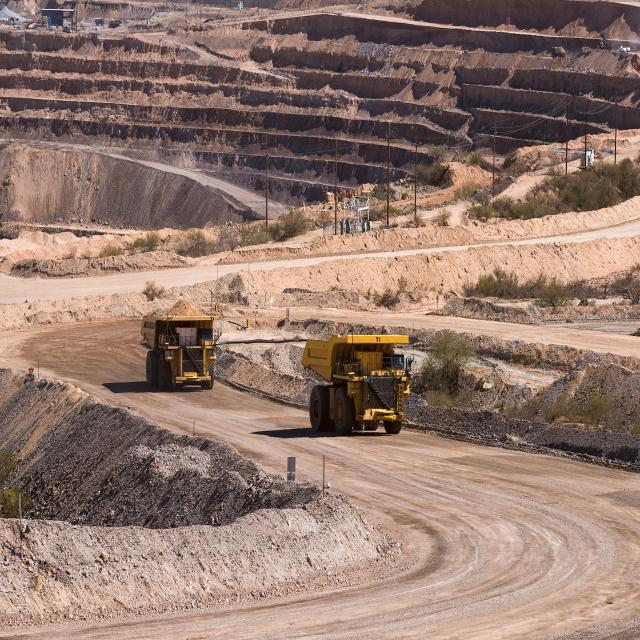dump_truck: (297, 332, 415, 441), (138, 294, 218, 394)
